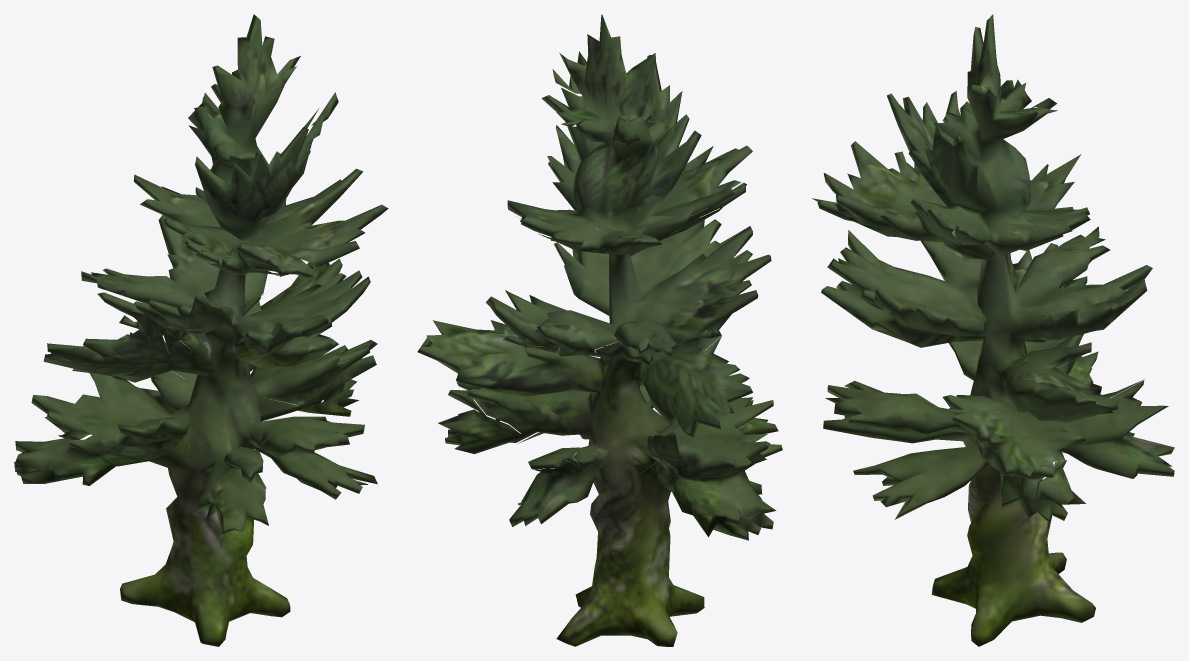
Rendered from Arbol_1.glb.
The picture shows the model from 3 angles, left to right: view 1: azimuth 30°, elevation 25°; view 2: azimuth 150°, elevation 25°; view 3: azimuth 270°, elevation 25°; orthographic projection. The views are drawn at different scales.
Parts seen in each view (by area): view 1: Arbol 1; view 2: Arbol 1; view 3: Arbol 1.
Boxes of the visible parts, x1,y1,x2,y2 form: Arbol 1: [14, 14, 388, 646]; Arbol 1: [417, 14, 782, 646]; Arbol 1: [812, 14, 1174, 646].
Bounding box in the file's own units: 0.1369 × 0.2344 × 0.1251.
Materials: 1 (1 with a texture image).
